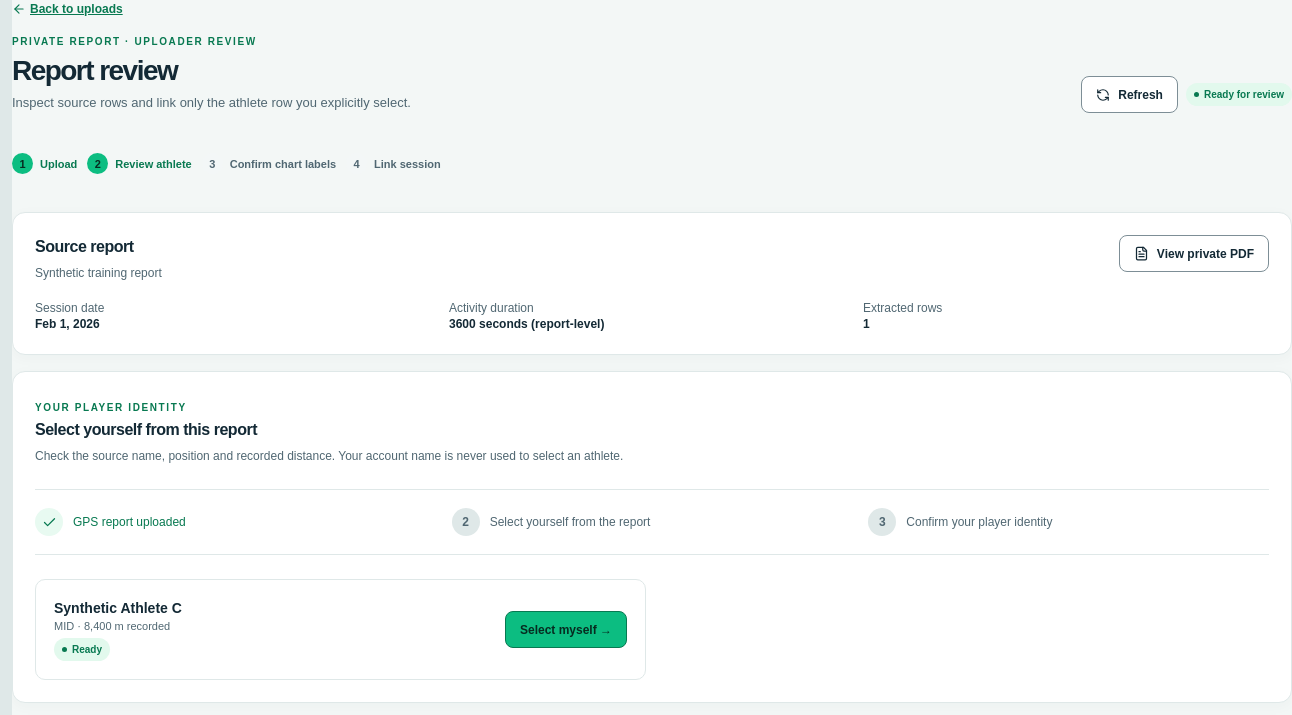
Test: uploader review flow › does not navigate if backend identity verification is unavailable after linking
This screenshot has width=1292, height=715.
Click the button with aria-label "select myself — synthetic athlete c": (566, 630) top-left (505, 611), bottom-right (627, 648)
(page scrolled)
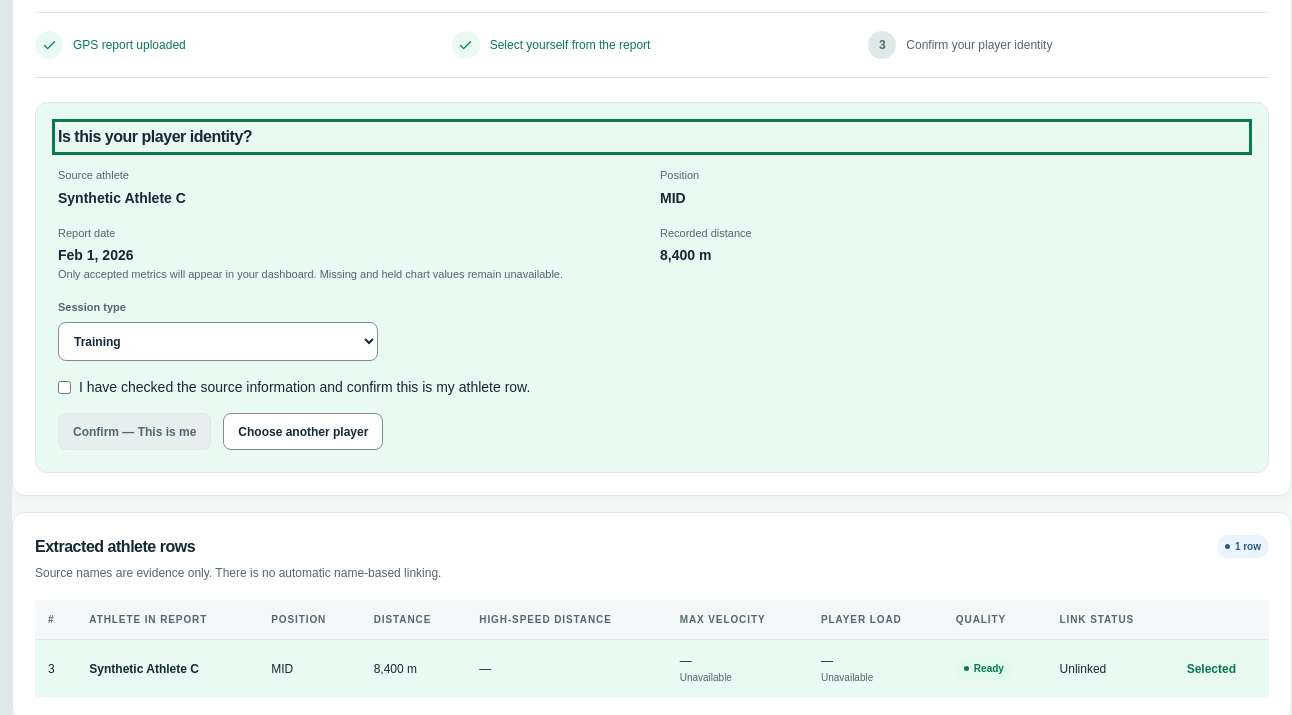
Click the checkbox: (64, 388) top-left (58, 381), bottom-right (71, 394)
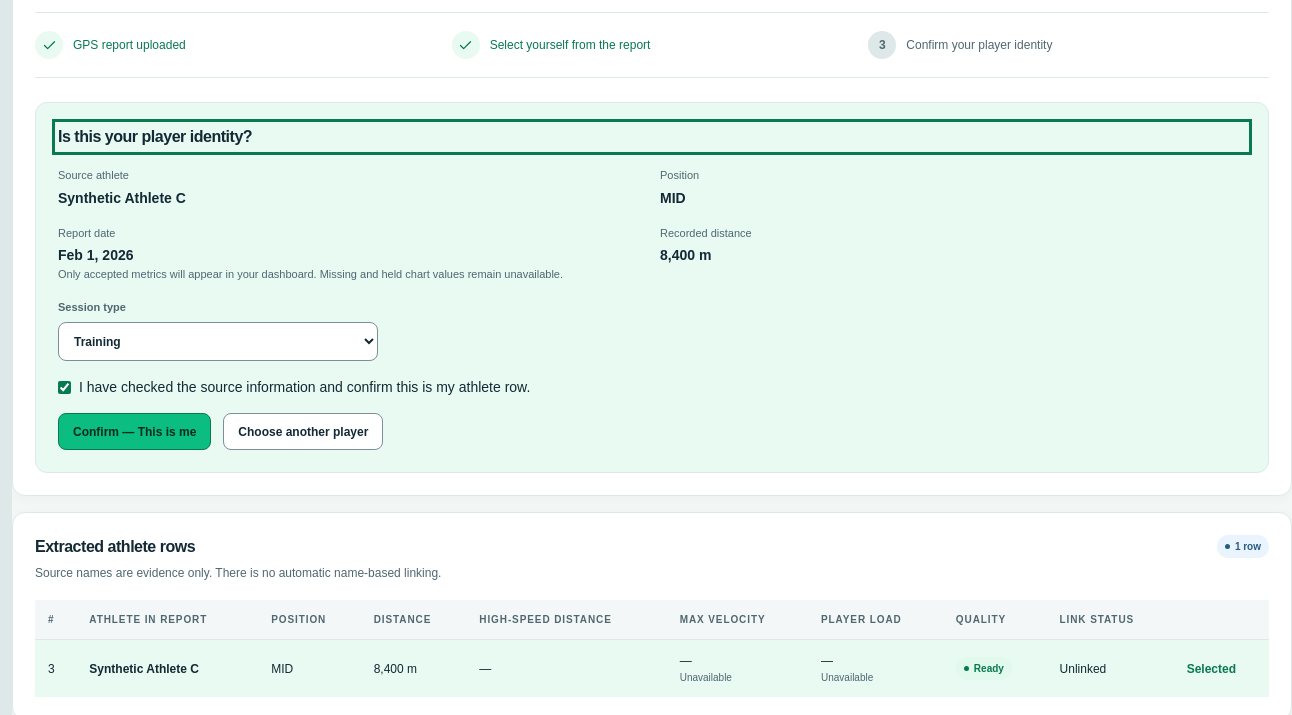
Click the button "Confirm — This is me": (135, 432) top-left (58, 413), bottom-right (211, 450)
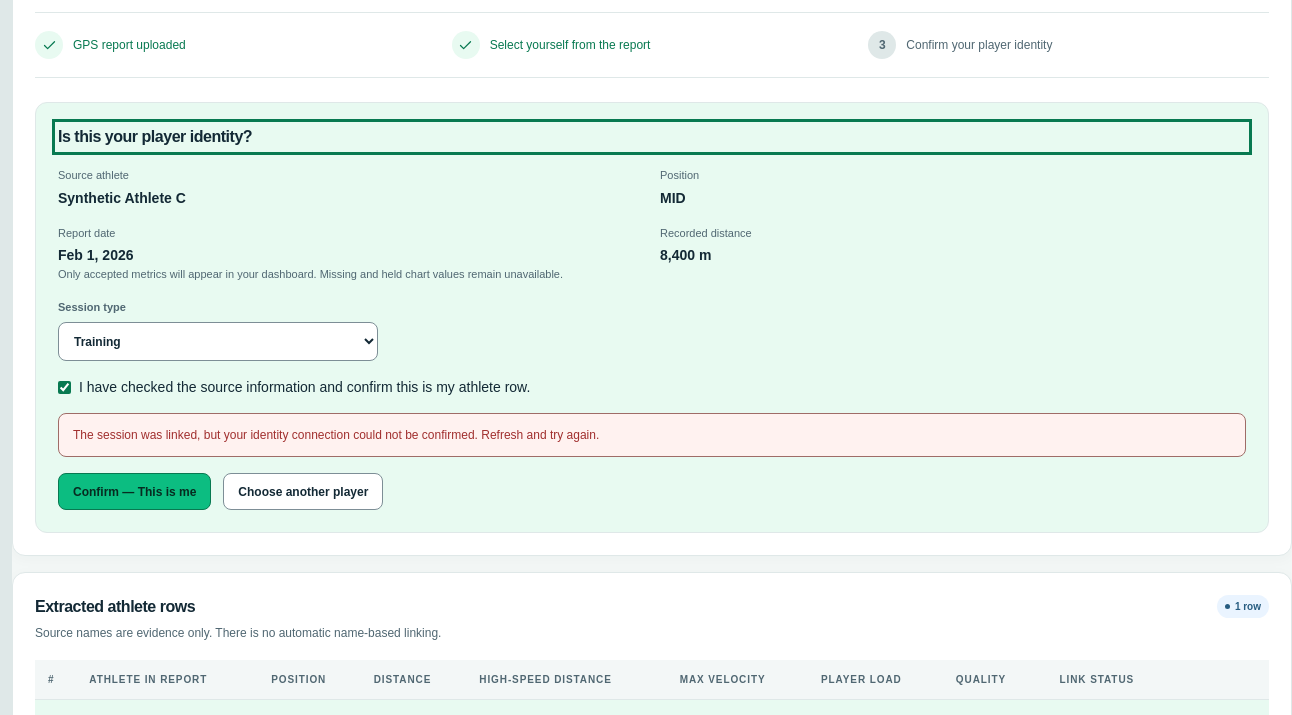
Check: the message shows "identity connection could not be confirmed", box top-left (73, 428), bottom-right (599, 442)
